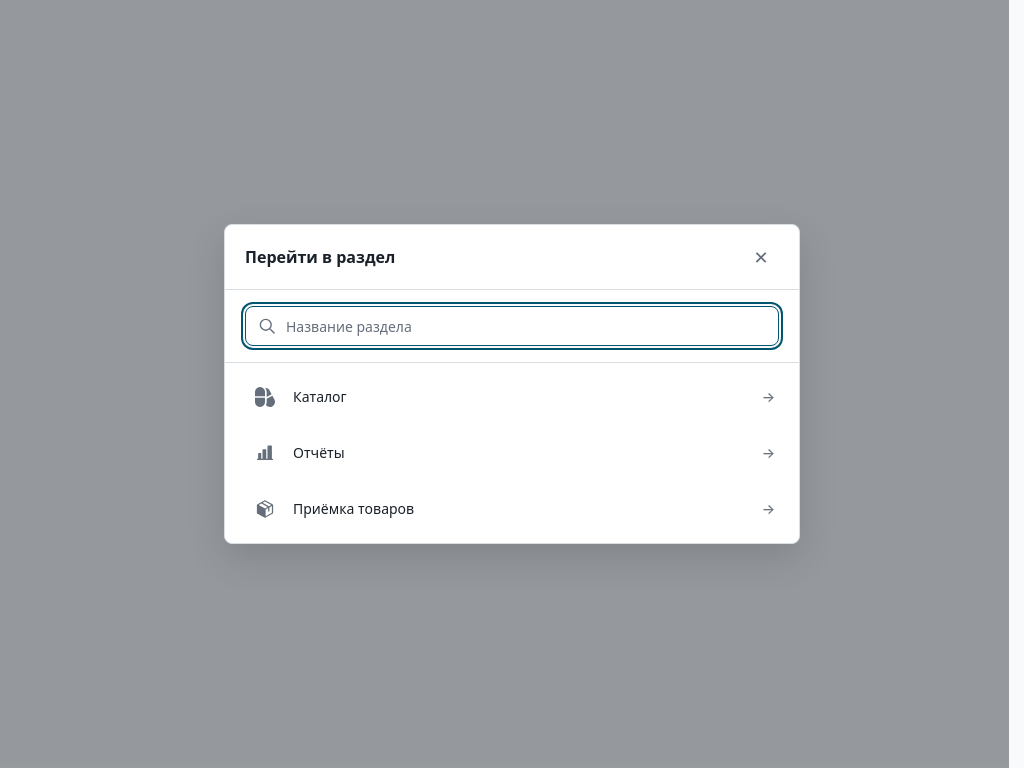
Scenario: SectionSearchDialog › matches a Russian query ПРИЁМКА
Step 1. Type "ПРИЁМКА" into the search field named "Найти раздел" → (512, 326), box [245,306,779,346]
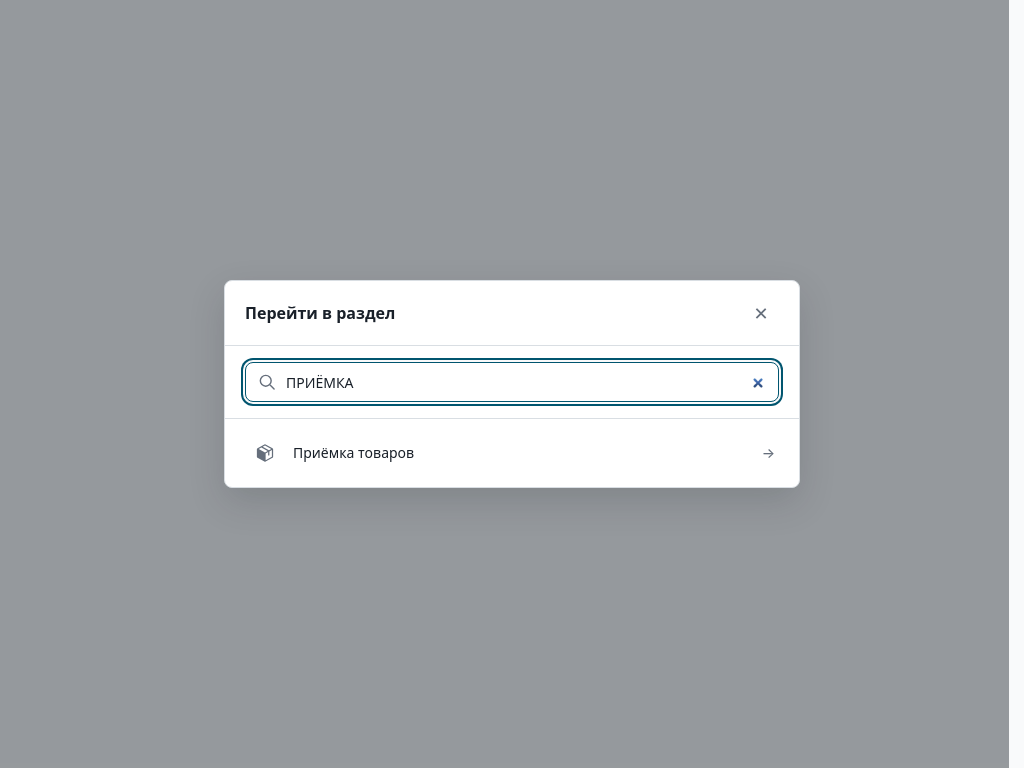
Expected: the button "Приёмка товаров →" is shown, [237,427,787,479]
Result: the button "Каталог" is gone
